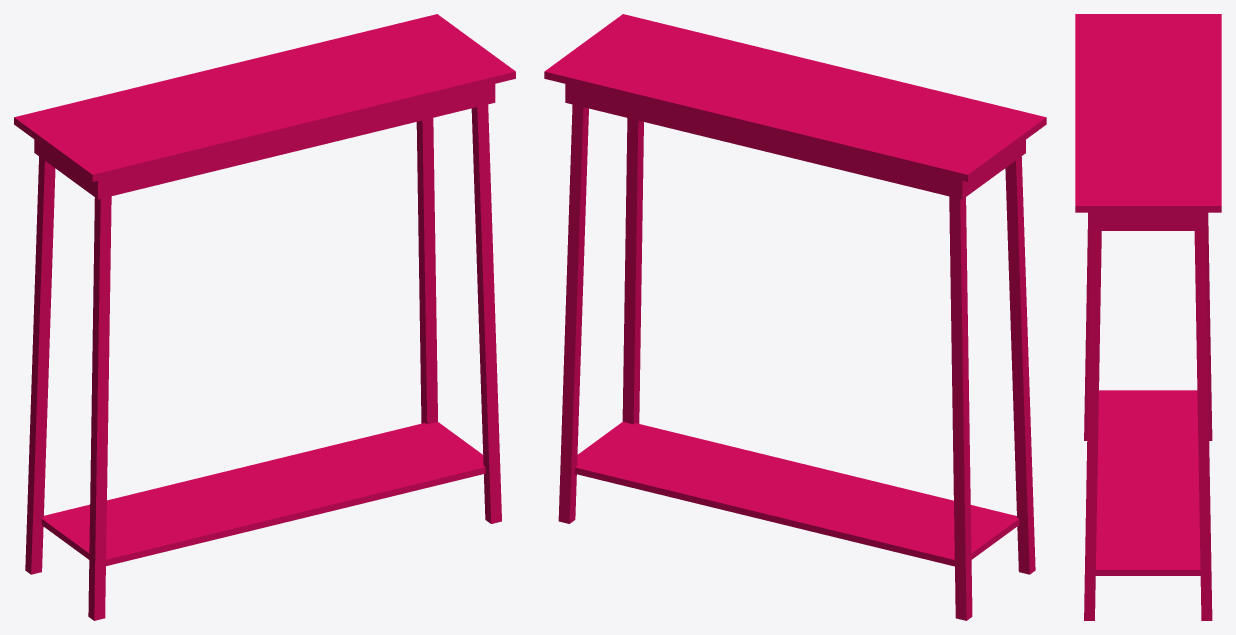
Rendered from Small_Table_04_Lod0.fbx.
3 renders of one model, left to right at view 1: azimuth 30°, elevation 25°; view 2: azimuth 150°, elevation 25°; view 3: azimuth 270°, elevation 25°, orthographic. The views are drawn at different scales.
Visible parts, largest first — view 1: Small_Table_04_Lod0; view 2: Small_Table_04_Lod0; view 3: Small_Table_04_Lod0.
Part boxes in pixels (x1,y1,x2,y2): Small_Table_04_Lod0: (14, 14, 515, 620); Small_Table_04_Lod0: (544, 14, 1046, 620); Small_Table_04_Lod0: (1075, 14, 1221, 620).
Size of the model in its own units: 83.18 by 84.69 by 26.75.
